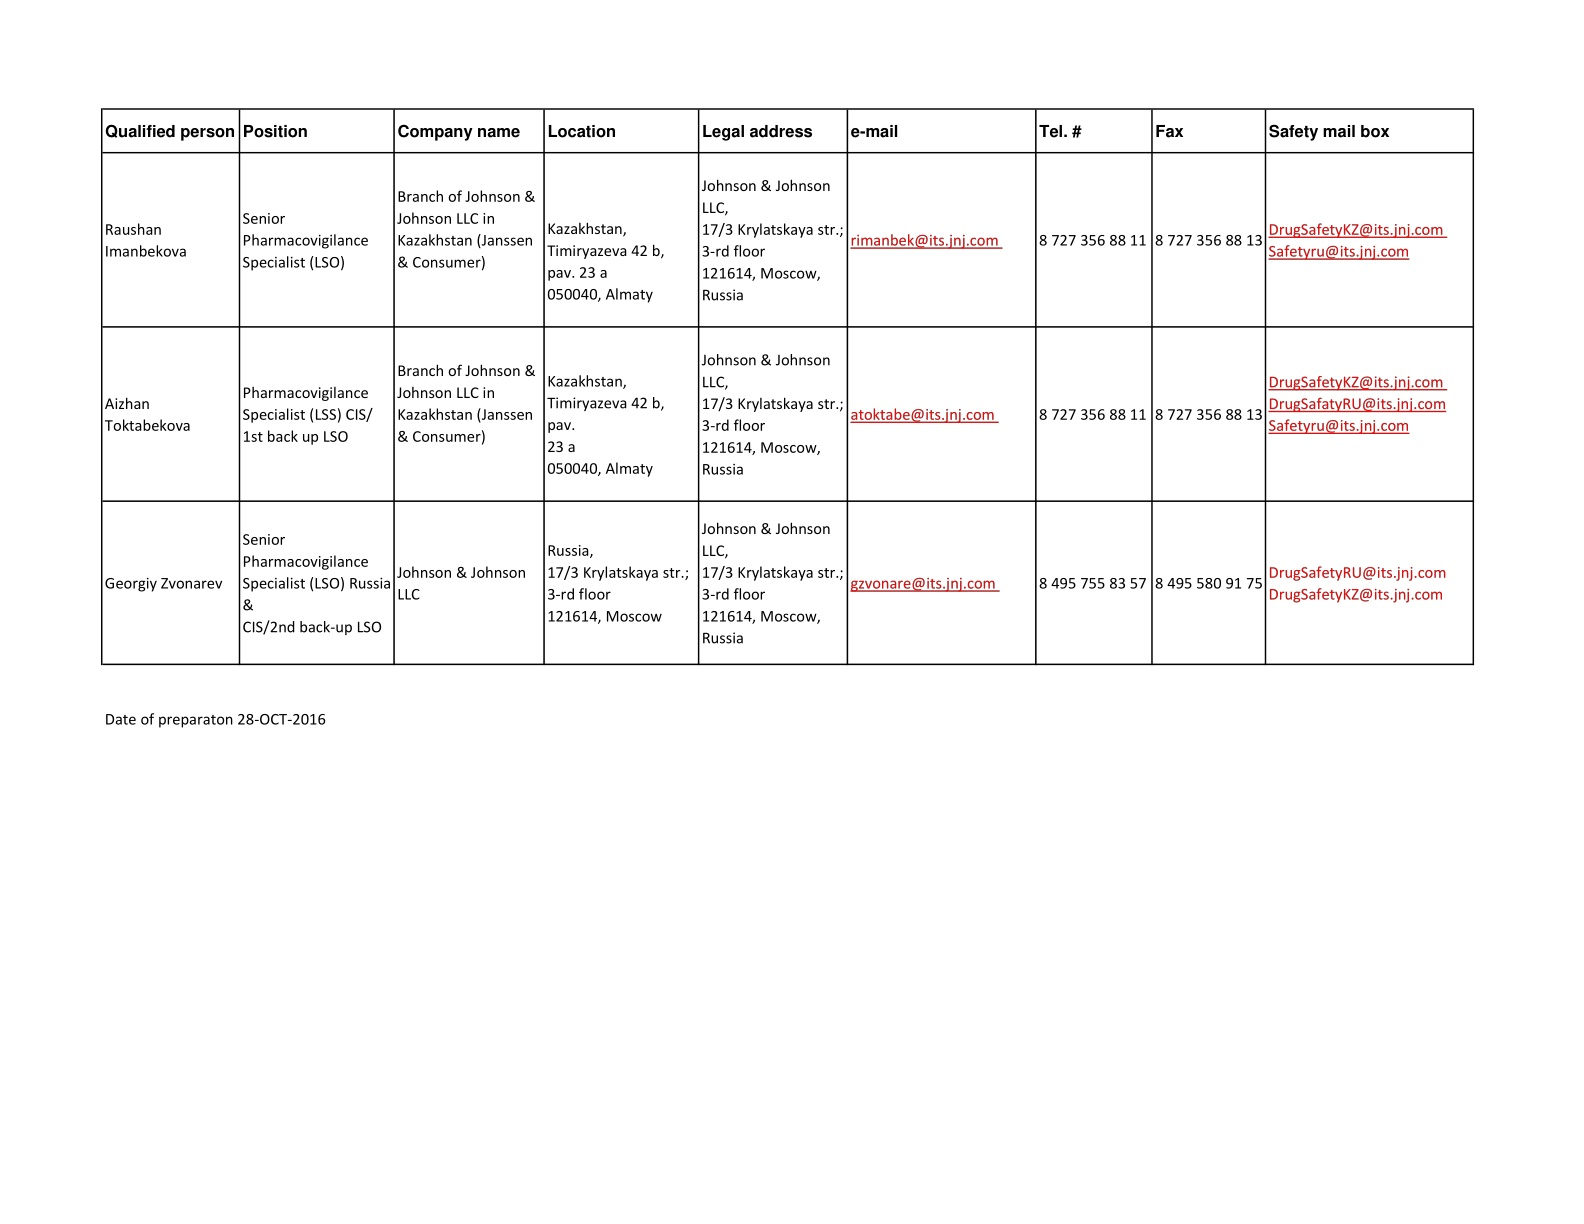full_lined: (100, 107, 1475, 667)
